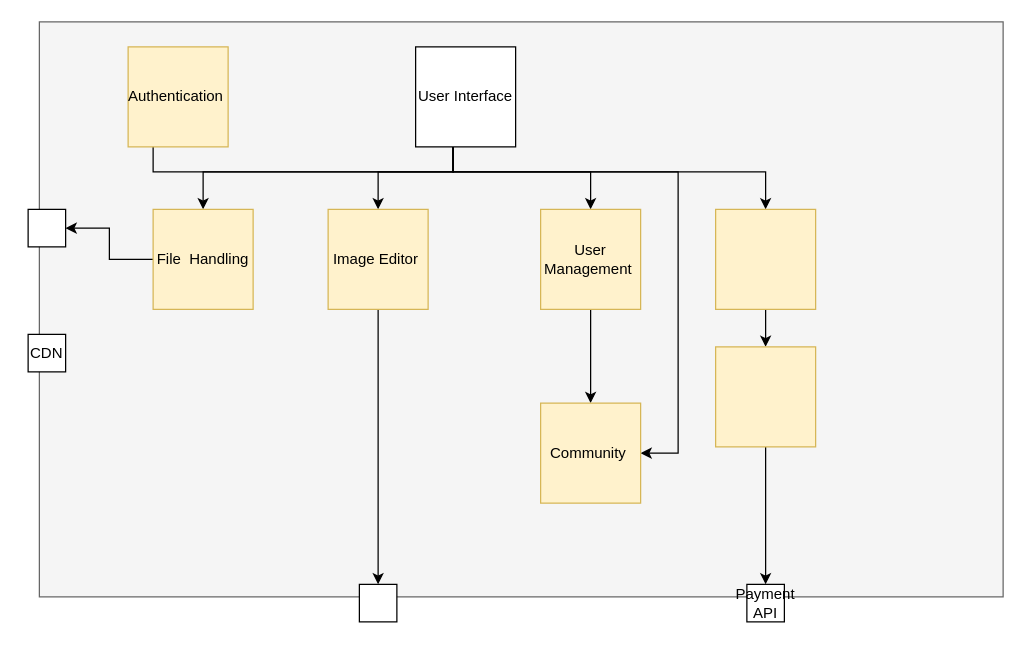
Some shapes in this 1025 by 651 pixel diagram are drawn without their labels. The centre of each missing label's shape, as x and y in pixels:
Cloud Service API: the point at 46,227
Image Editor AI: the point at 377,602
Payment: the point at 765,396
Subscription: the point at 765,258
